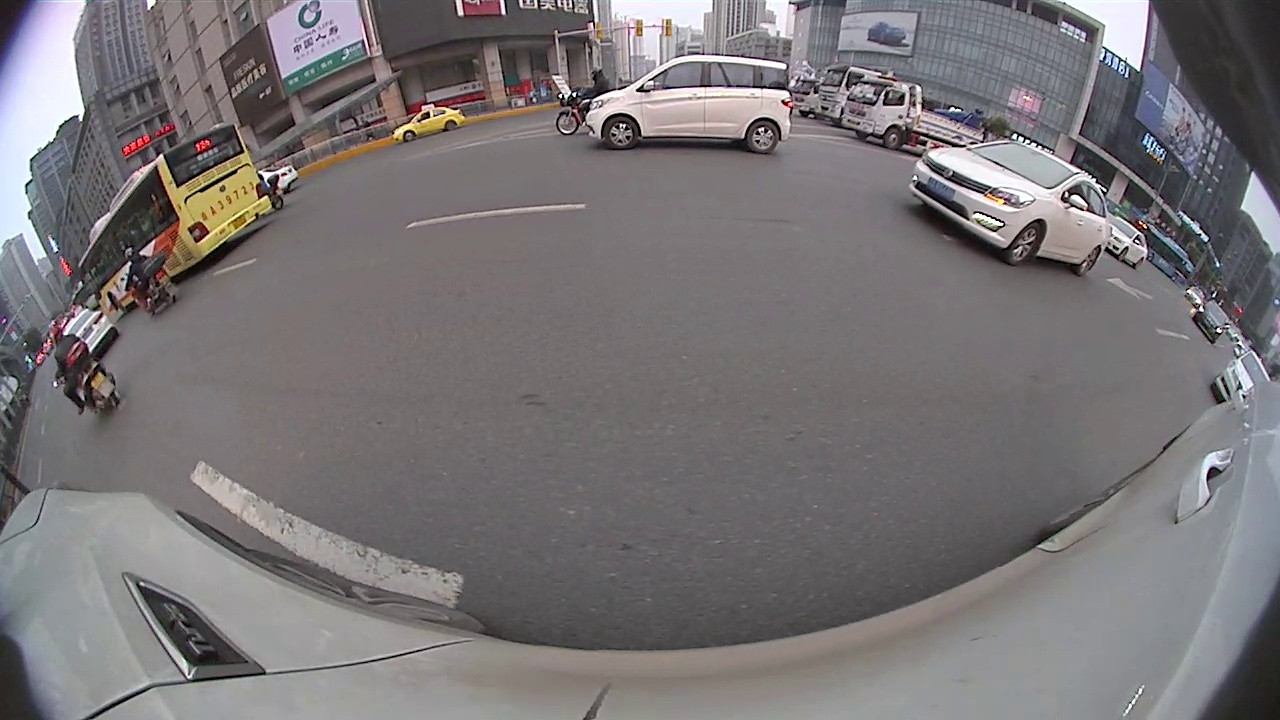bus: (79, 119, 263, 320)
car: (906, 142, 1121, 278), (584, 50, 788, 156), (390, 101, 467, 153), (1209, 351, 1274, 411), (1101, 216, 1151, 268), (1192, 299, 1236, 342)
front: (1006, 221, 1040, 268), (602, 114, 640, 152), (553, 110, 581, 138), (882, 124, 904, 152)
rear: (744, 119, 780, 156), (1075, 245, 1100, 280)
rider: (48, 322, 127, 419), (119, 246, 179, 319)
truck: (838, 68, 1010, 160)
